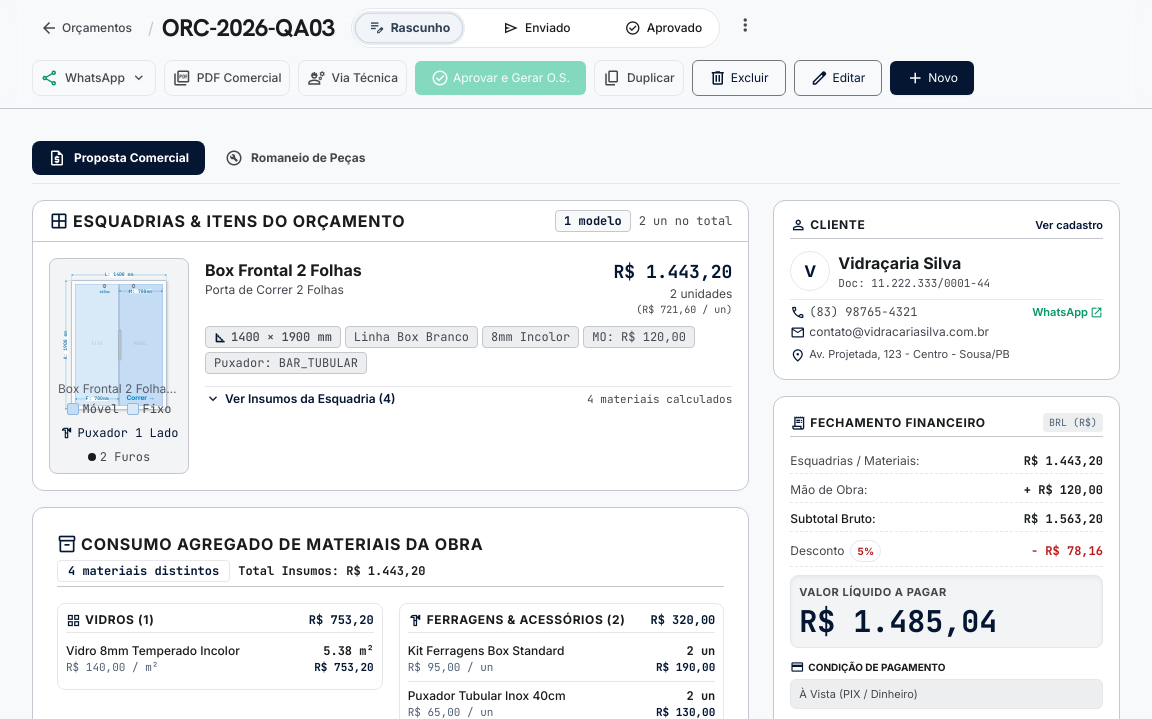
Scenario: QA-03: Suíte de Testes de Integração End-to-End [Issue #73] › Cenário 1 — Jornada Principal (Fluxo Feliz) › deve alternar para a aba "Romaneio de Peças" e validar gabarito técnico, lista de corte e sigilo comercial
Click the button with test id "tab-romaneio" at (295, 158), box [209, 141, 381, 175]
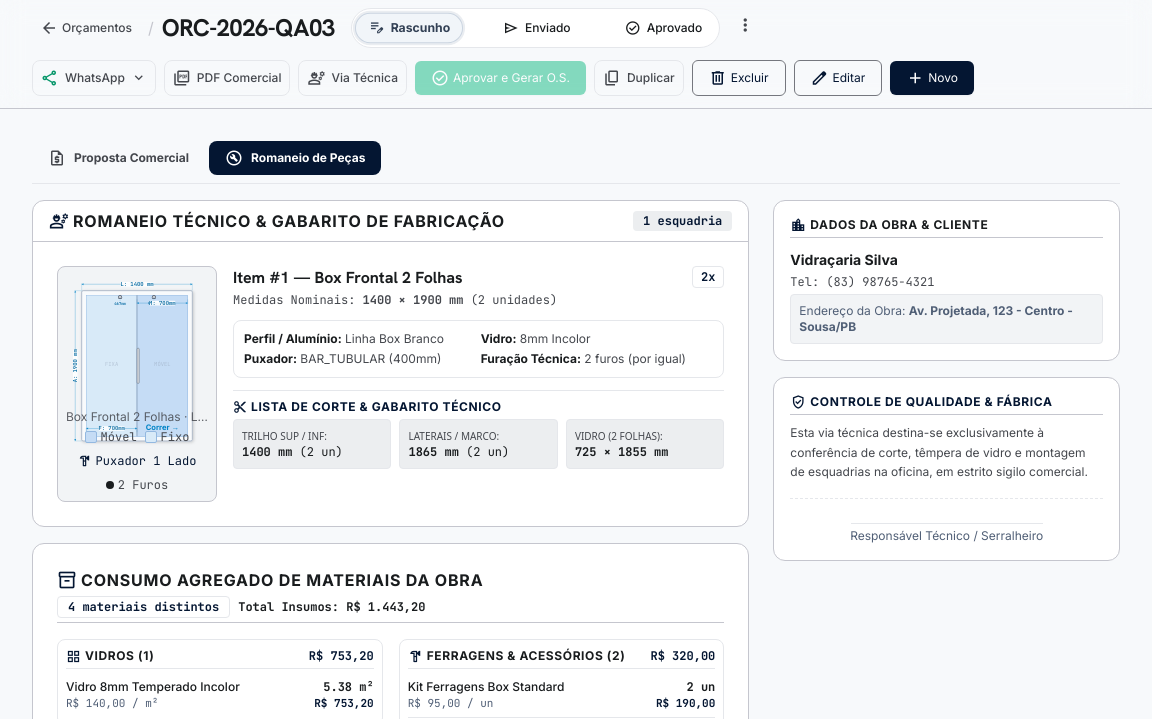
Result: the heading "Romaneio Técnico & Gabarito de Fabricação" is shown at [73, 209, 505, 233]
Result: the text "Lista de Corte & Gabarito Técnico" is shown at [233, 399, 502, 415]
Result: the text "1400 mm" is shown at [242, 444, 292, 460]
